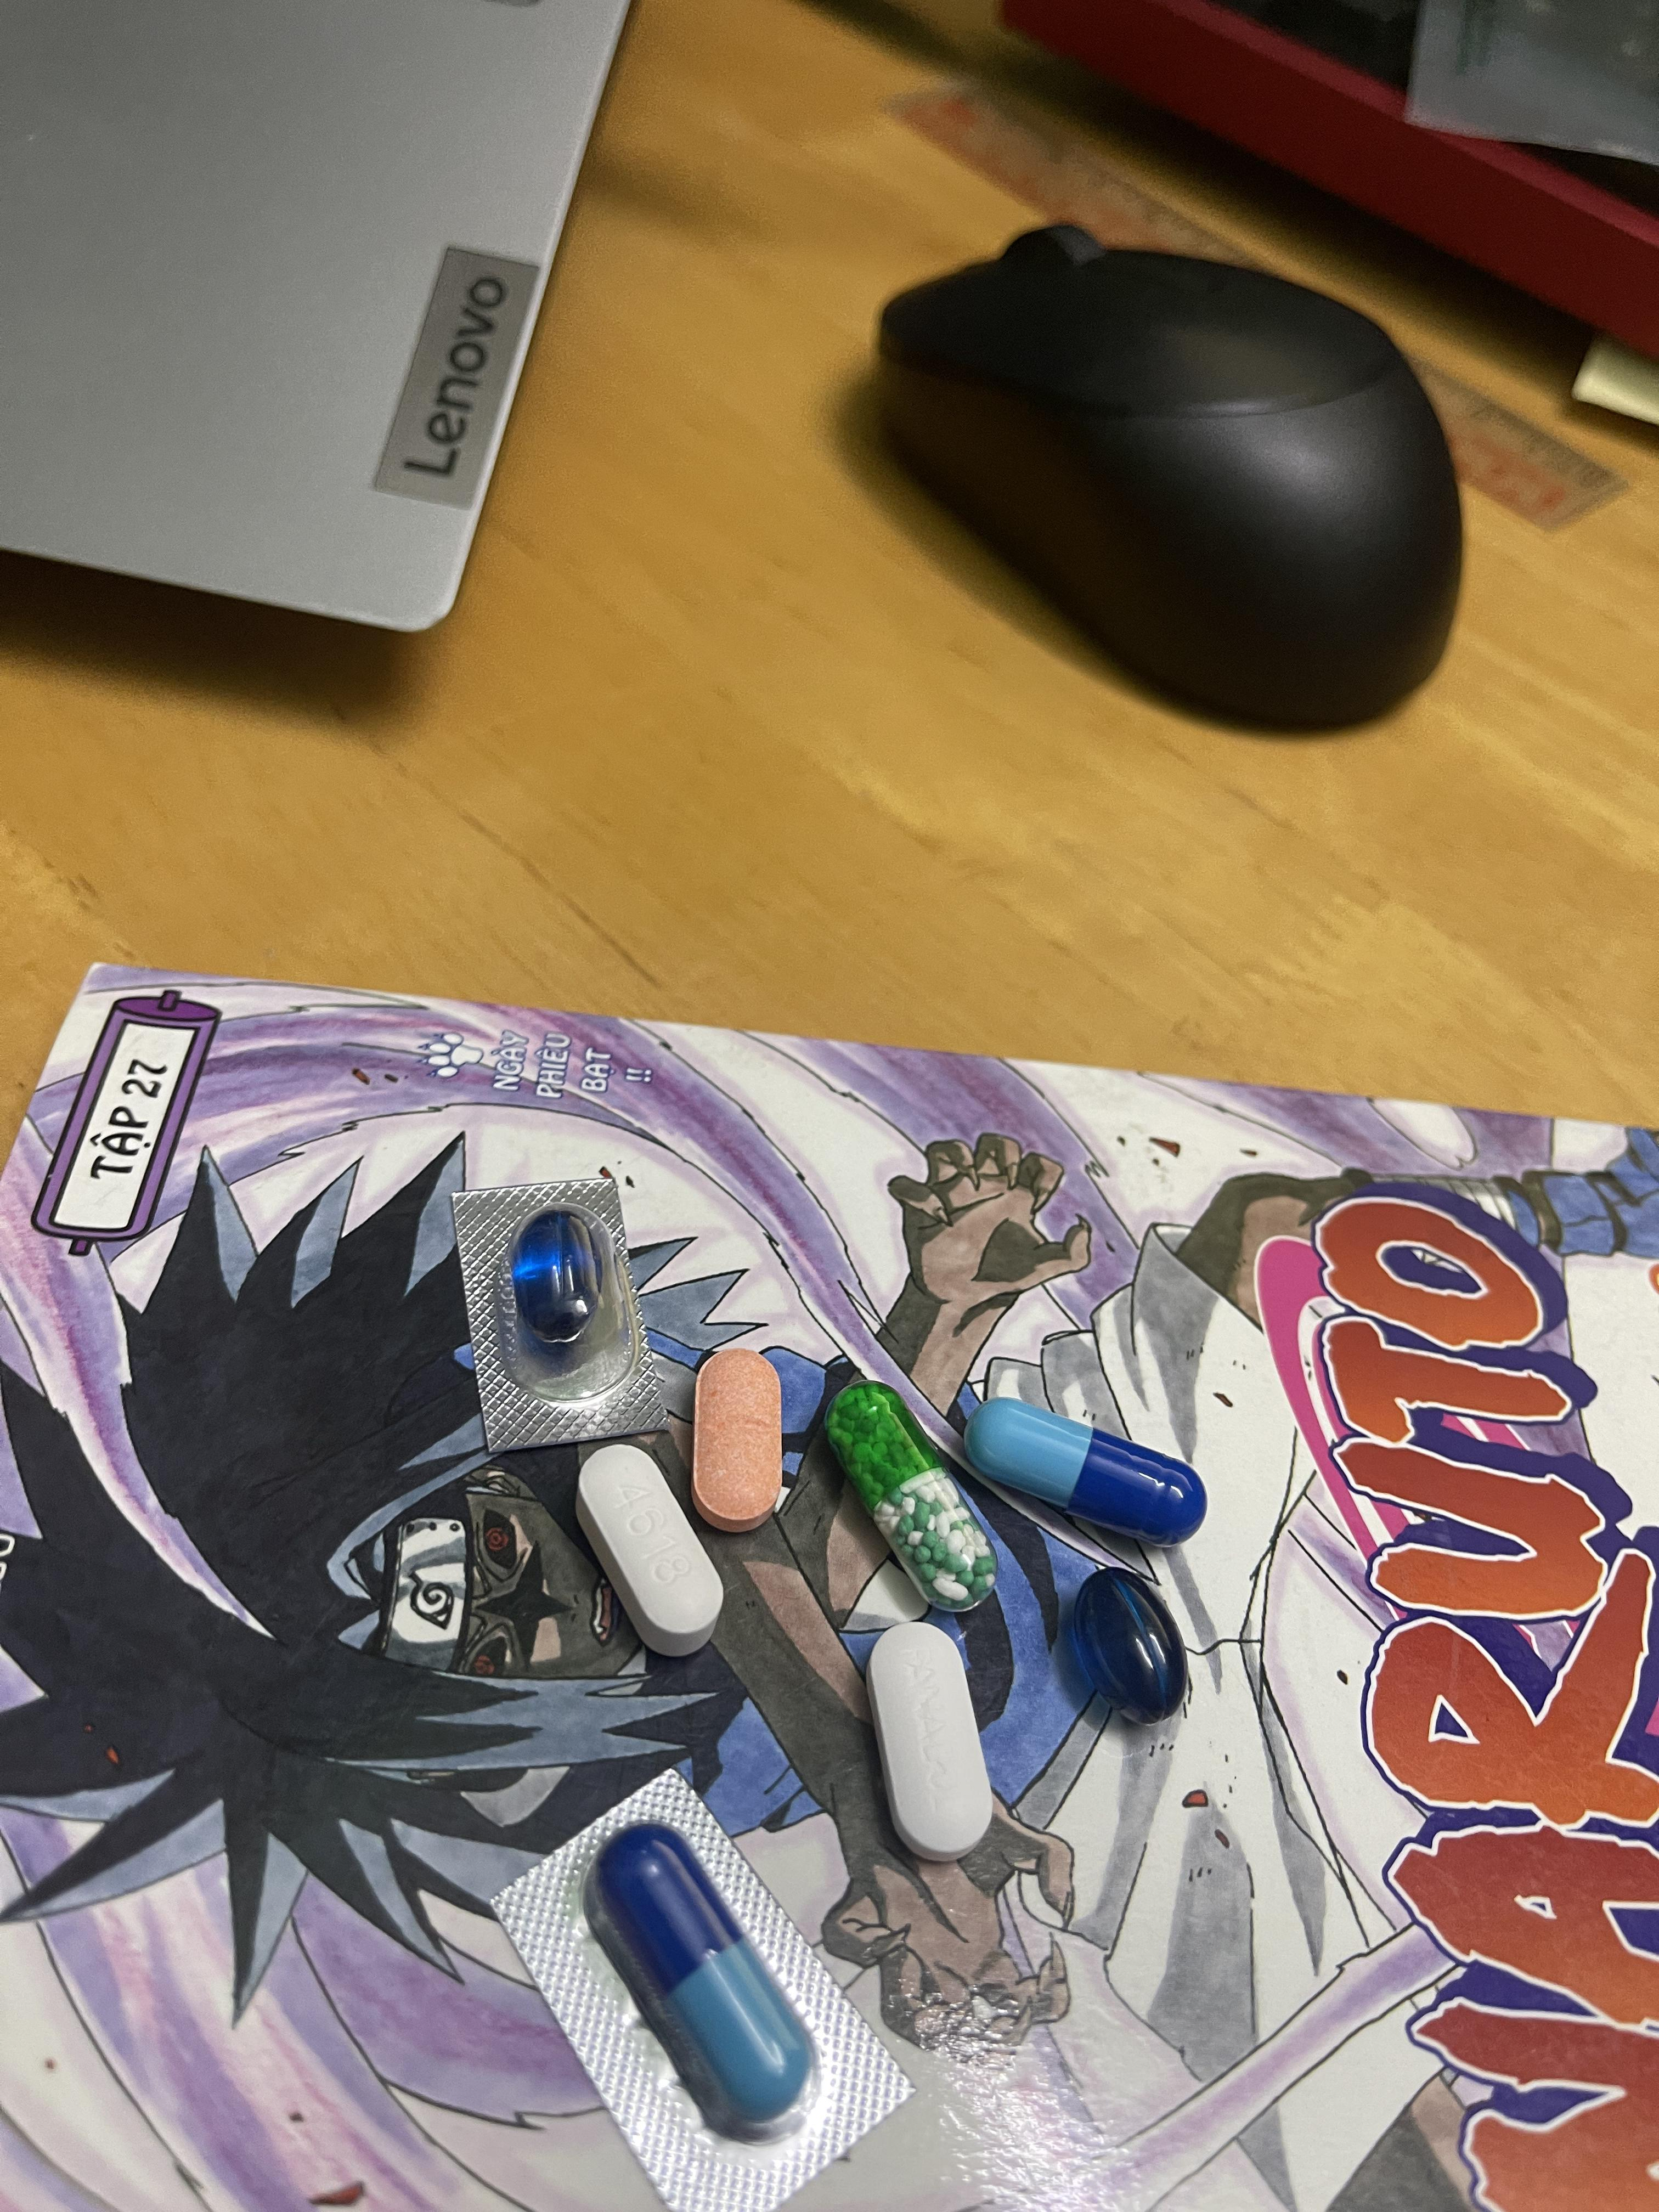Lincomyxin_500mg: (1063, 1564, 1180, 1719), (511, 1219, 598, 1348)
Loratadine_10mg: (692, 1350, 781, 1527)
Paracetamol_350mg: (864, 1618, 993, 1860)
Paracetamol_500mg: (575, 1442, 720, 1656)
Paracetamol_650mg: (824, 1383, 993, 1611)
pill: (587, 1834, 816, 2137), (974, 1406, 1195, 1540)
